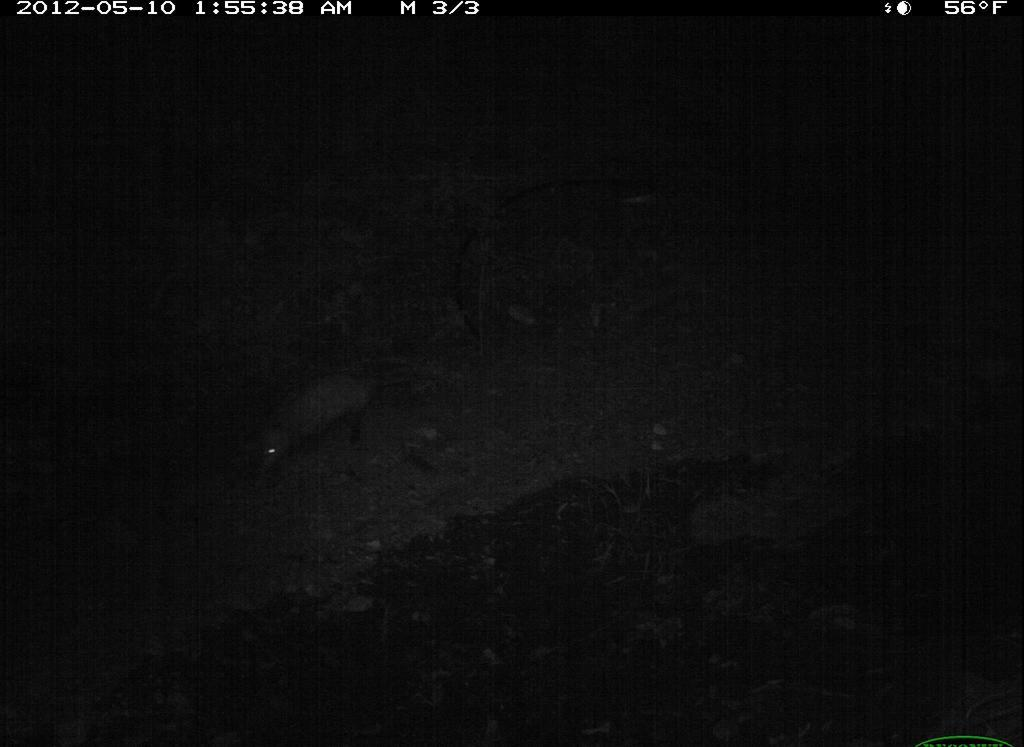opossum: (232, 358, 396, 501)
